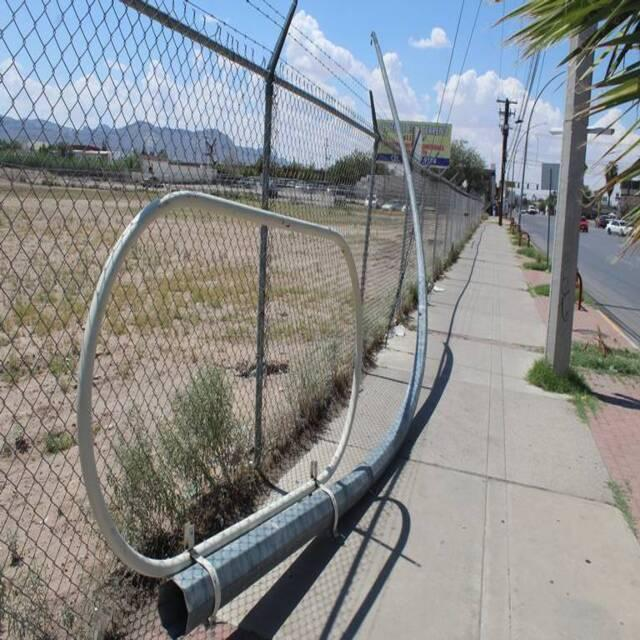Inclined Pole: (72, 28, 433, 639)
